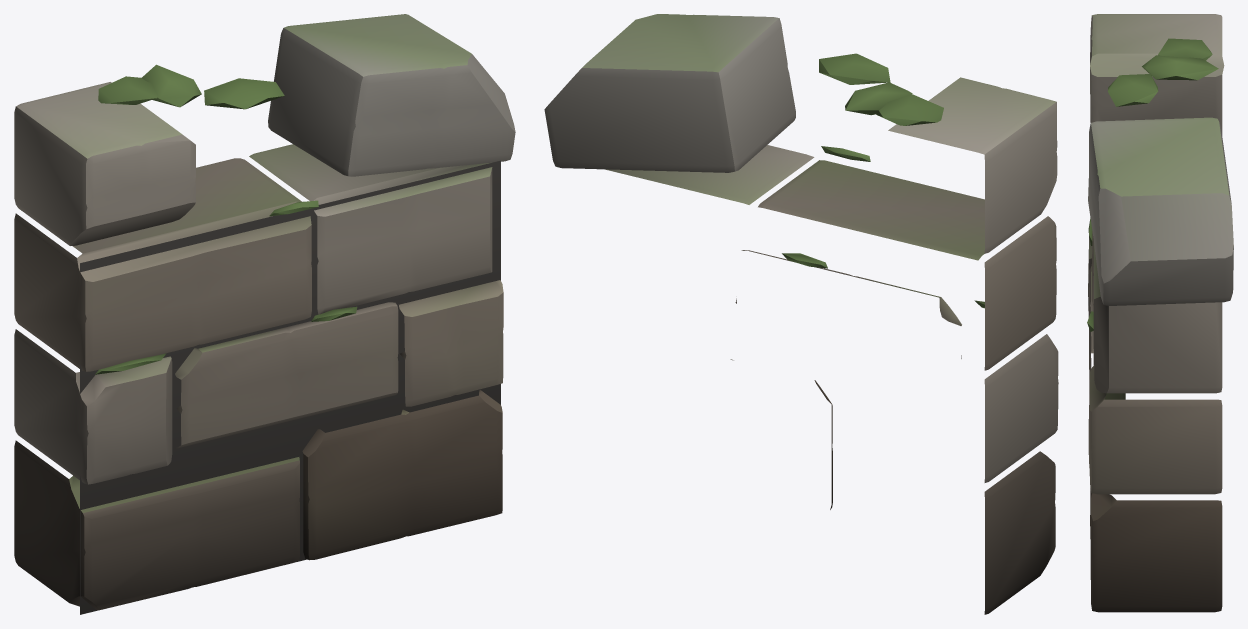
The model's file is ruins-wall-b-v1.glb.
3 views of the same model, side by side, from view 1: azimuth 30°, elevation 25°; view 2: azimuth 150°, elevation 25°; view 3: azimuth 270°, elevation 25° (orthographic). The views are drawn at different scales.
Visible parts, largest first — view 1: 0_ruins_wall_b; view 2: 0_ruins_wall_b; view 3: 0_ruins_wall_b.
Part boxes in pixels (x1=…): 0_ruins_wall_b: x1=14, y1=14, x2=515, y2=614; 0_ruins_wall_b: x1=544, y1=14, x2=1058, y2=614; 0_ruins_wall_b: x1=1087, y1=14, x2=1233, y2=612.
Size of the model in its own units: 2.08 by 2.14 by 0.6605.
